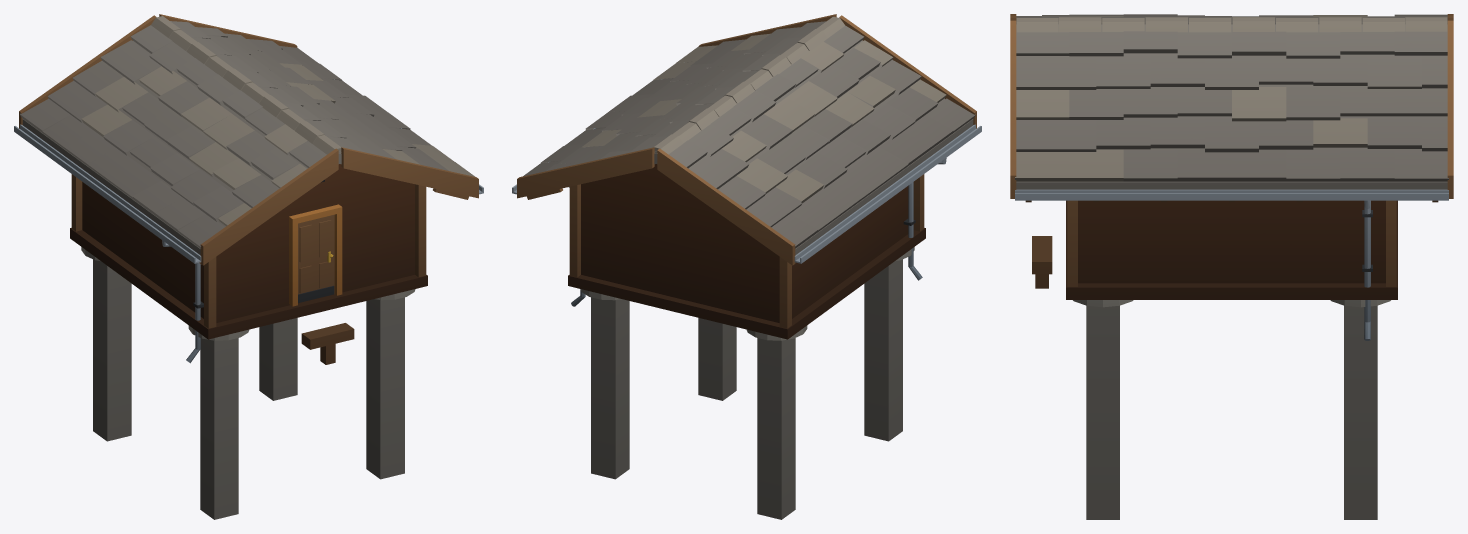
File: Mazot.fbx
The picture shows the model from 3 angles, left to right: view 1: azimuth 30°, elevation 25°; view 2: azimuth 150°, elevation 25°; view 3: azimuth 270°, elevation 25°; orthographic projection. The views are drawn at different scales.
Parts seen in each view (by area): view 1: Mazot_LOD0; view 2: Mazot_LOD0; view 3: Mazot_LOD0.
Part boxes in pixels (x1,y1,x2,y2): Mazot_LOD0: (14,14,483,519); Mazot_LOD0: (512,14,981,519); Mazot_LOD0: (1010,14,1453,519).
Size of what is drawn, in the model's own units: 5.92 by 7.24 by 6.54.
Materials: 1 (1 with a texture image).
